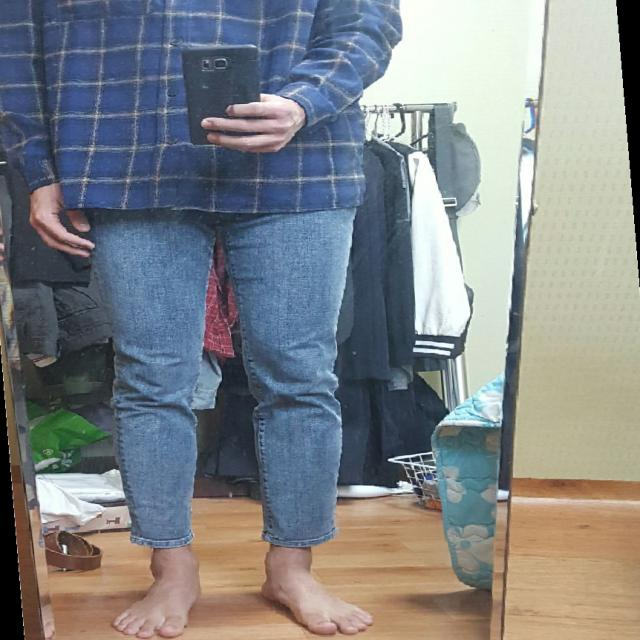denimpants: (80, 207, 362, 545)
shirt: (0, 0, 405, 215)
